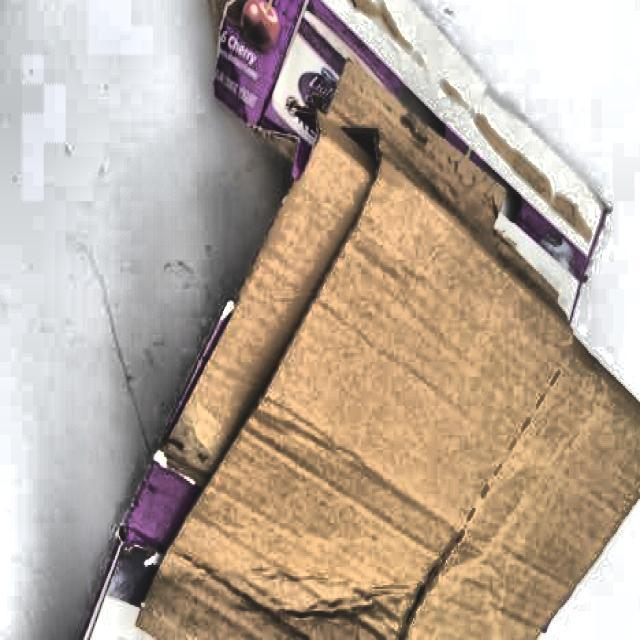cardboard: (133, 57, 640, 640)
